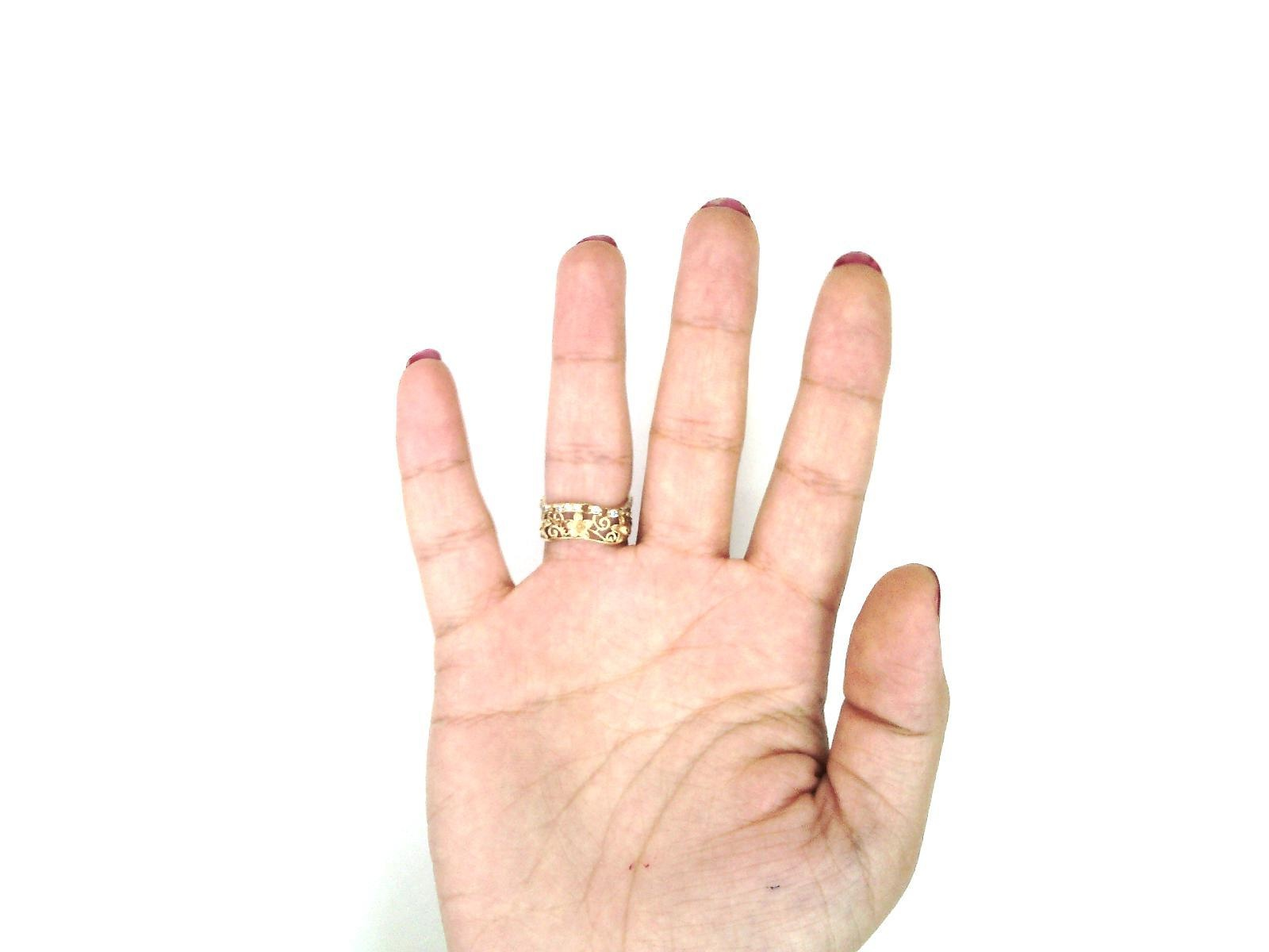open_palm: (392, 197, 953, 951)
